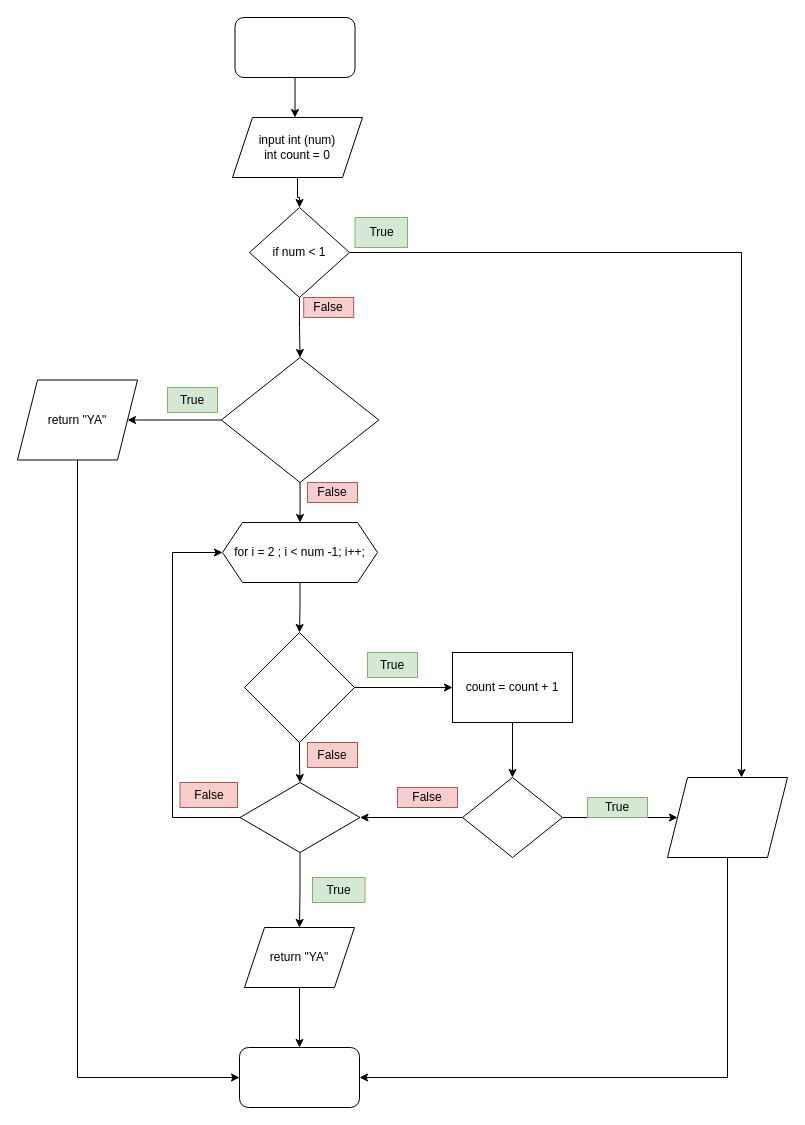
This 805x1125 diagram has some shape labels left out. Each missing label, with the box of its shape:
count > 2: (462, 776, 562, 858)
End: (238, 1046, 360, 1108)
i >= num: (239, 782, 360, 852)
if num >=1 && num <= 3: (220, 356, 379, 482)
num % i == 0: (244, 632, 354, 742)
return "TDAK": (666, 776, 788, 858)
Start: (234, 16, 355, 78)
